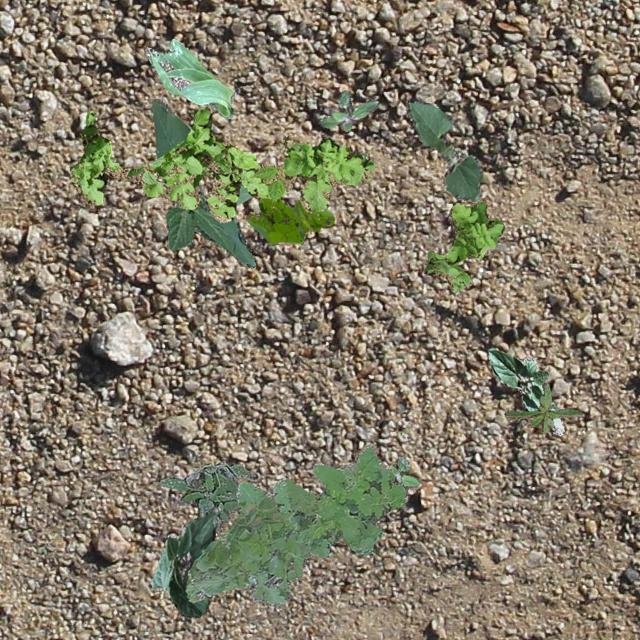crop: (150, 98, 256, 266), (404, 98, 482, 200), (150, 506, 220, 616), (144, 38, 233, 118), (488, 348, 562, 434), (234, 183, 252, 204)
weed: (184, 442, 403, 604), (69, 108, 374, 222), (422, 198, 502, 292), (160, 459, 252, 532), (244, 196, 334, 242), (504, 382, 582, 432), (318, 90, 377, 130), (388, 458, 418, 500)
